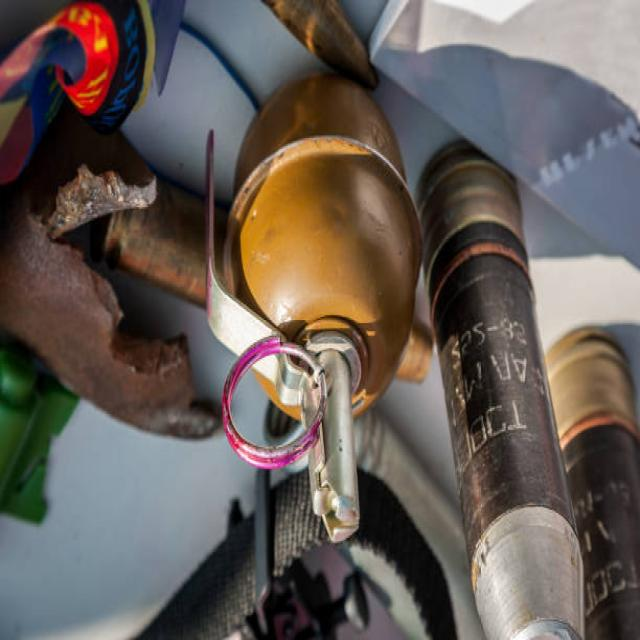grenade: (190, 72, 430, 551)
